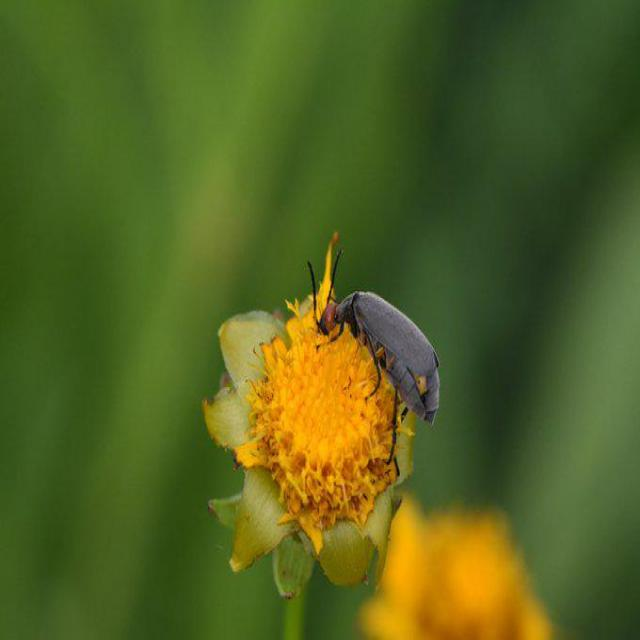BlisterBeetle-Adult-: (308, 249, 442, 467)
